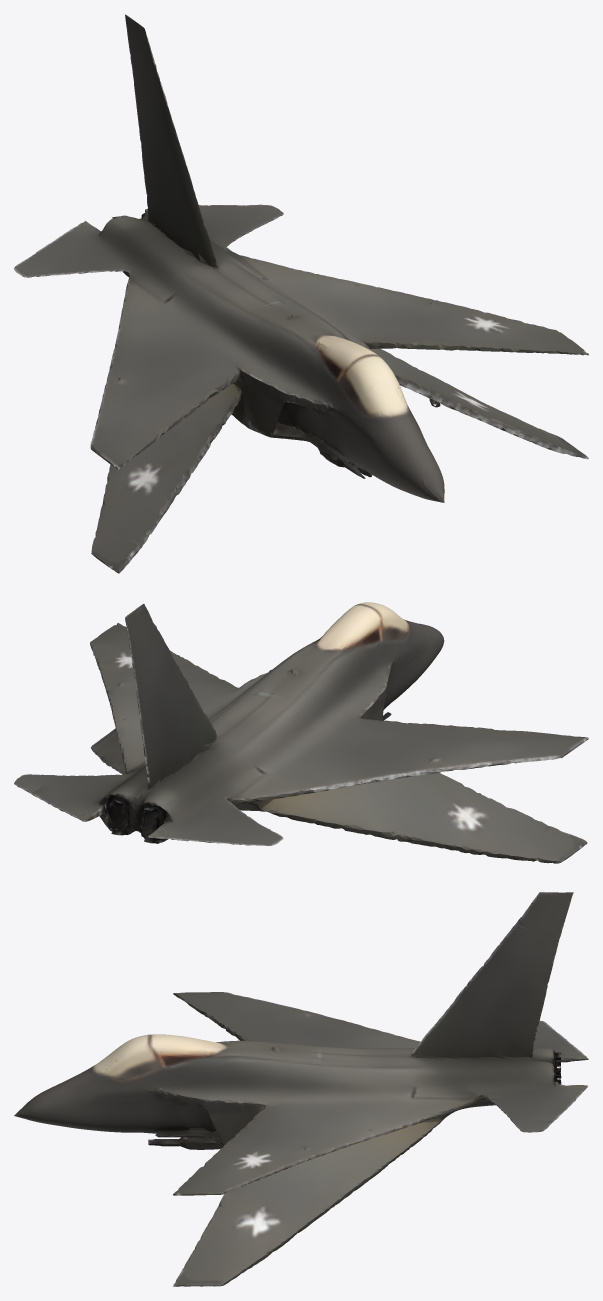
The model's file is phantom_tail.glb.
3 views of the same model, one above another, from view 1: azimuth 30°, elevation 25°; view 2: azimuth 150°, elevation 25°; view 3: azimuth 270°, elevation 25° (orthographic). The views are drawn at different scales.
Parts seen in each view (by area): view 1: phantom_tail; view 2: phantom_tail; view 3: phantom_tail.
Part boxes in pixels (bbox=[...]): phantom_tail: bbox=[14, 14, 588, 573]; phantom_tail: bbox=[14, 602, 588, 863]; phantom_tail: bbox=[14, 892, 588, 1286].
Bounding box in the file's own units: 1.57 × 1.07 × 1.89.
Materials: 1 (1 with a texture image).
